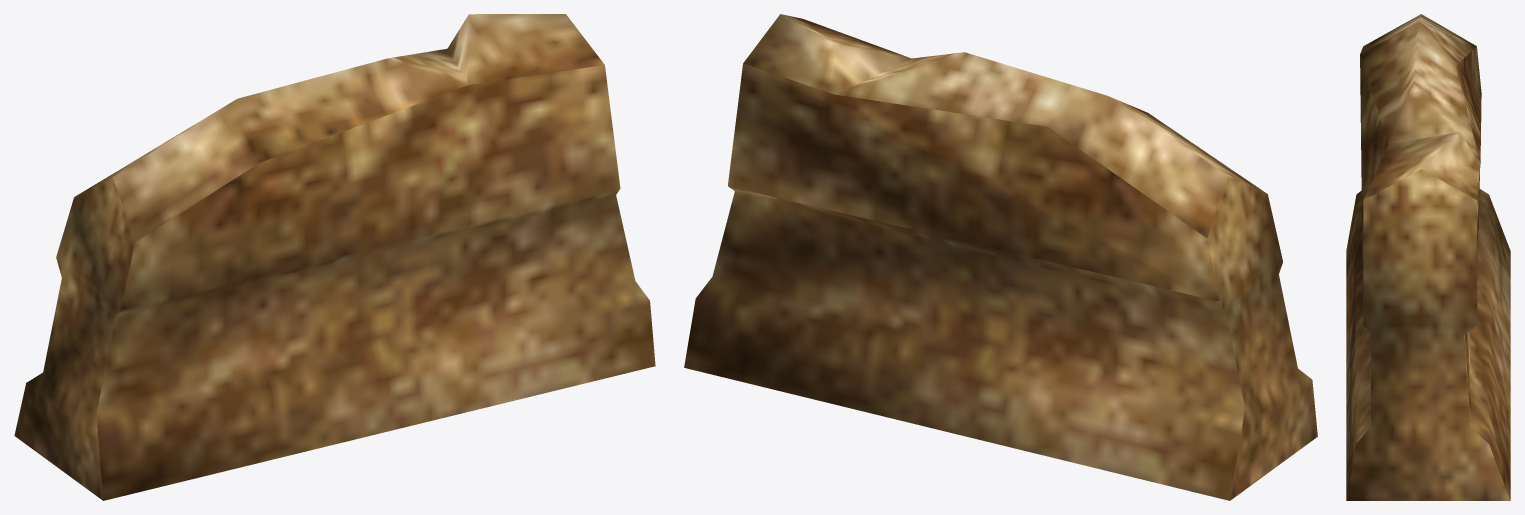
File: b_general_obj_17.glb
3 views of the same model, side by side, from view 1: azimuth 30°, elevation 25°; view 2: azimuth 150°, elevation 25°; view 3: azimuth 270°, elevation 25° (orthographic). The views are drawn at different scales.
Parts seen in each view (by area): view 1: Object01; view 2: Object01; view 3: Object01.
Boxes of the visible parts, <box> form: Object01: <box>14,14,655,500</box>; Object01: <box>684,14,1317,500</box>; Object01: <box>1346,14,1510,500</box>.
Bounding box in the file's own units: 1.86 × 1.09 × 0.5184.
1 material, 1 textured.
